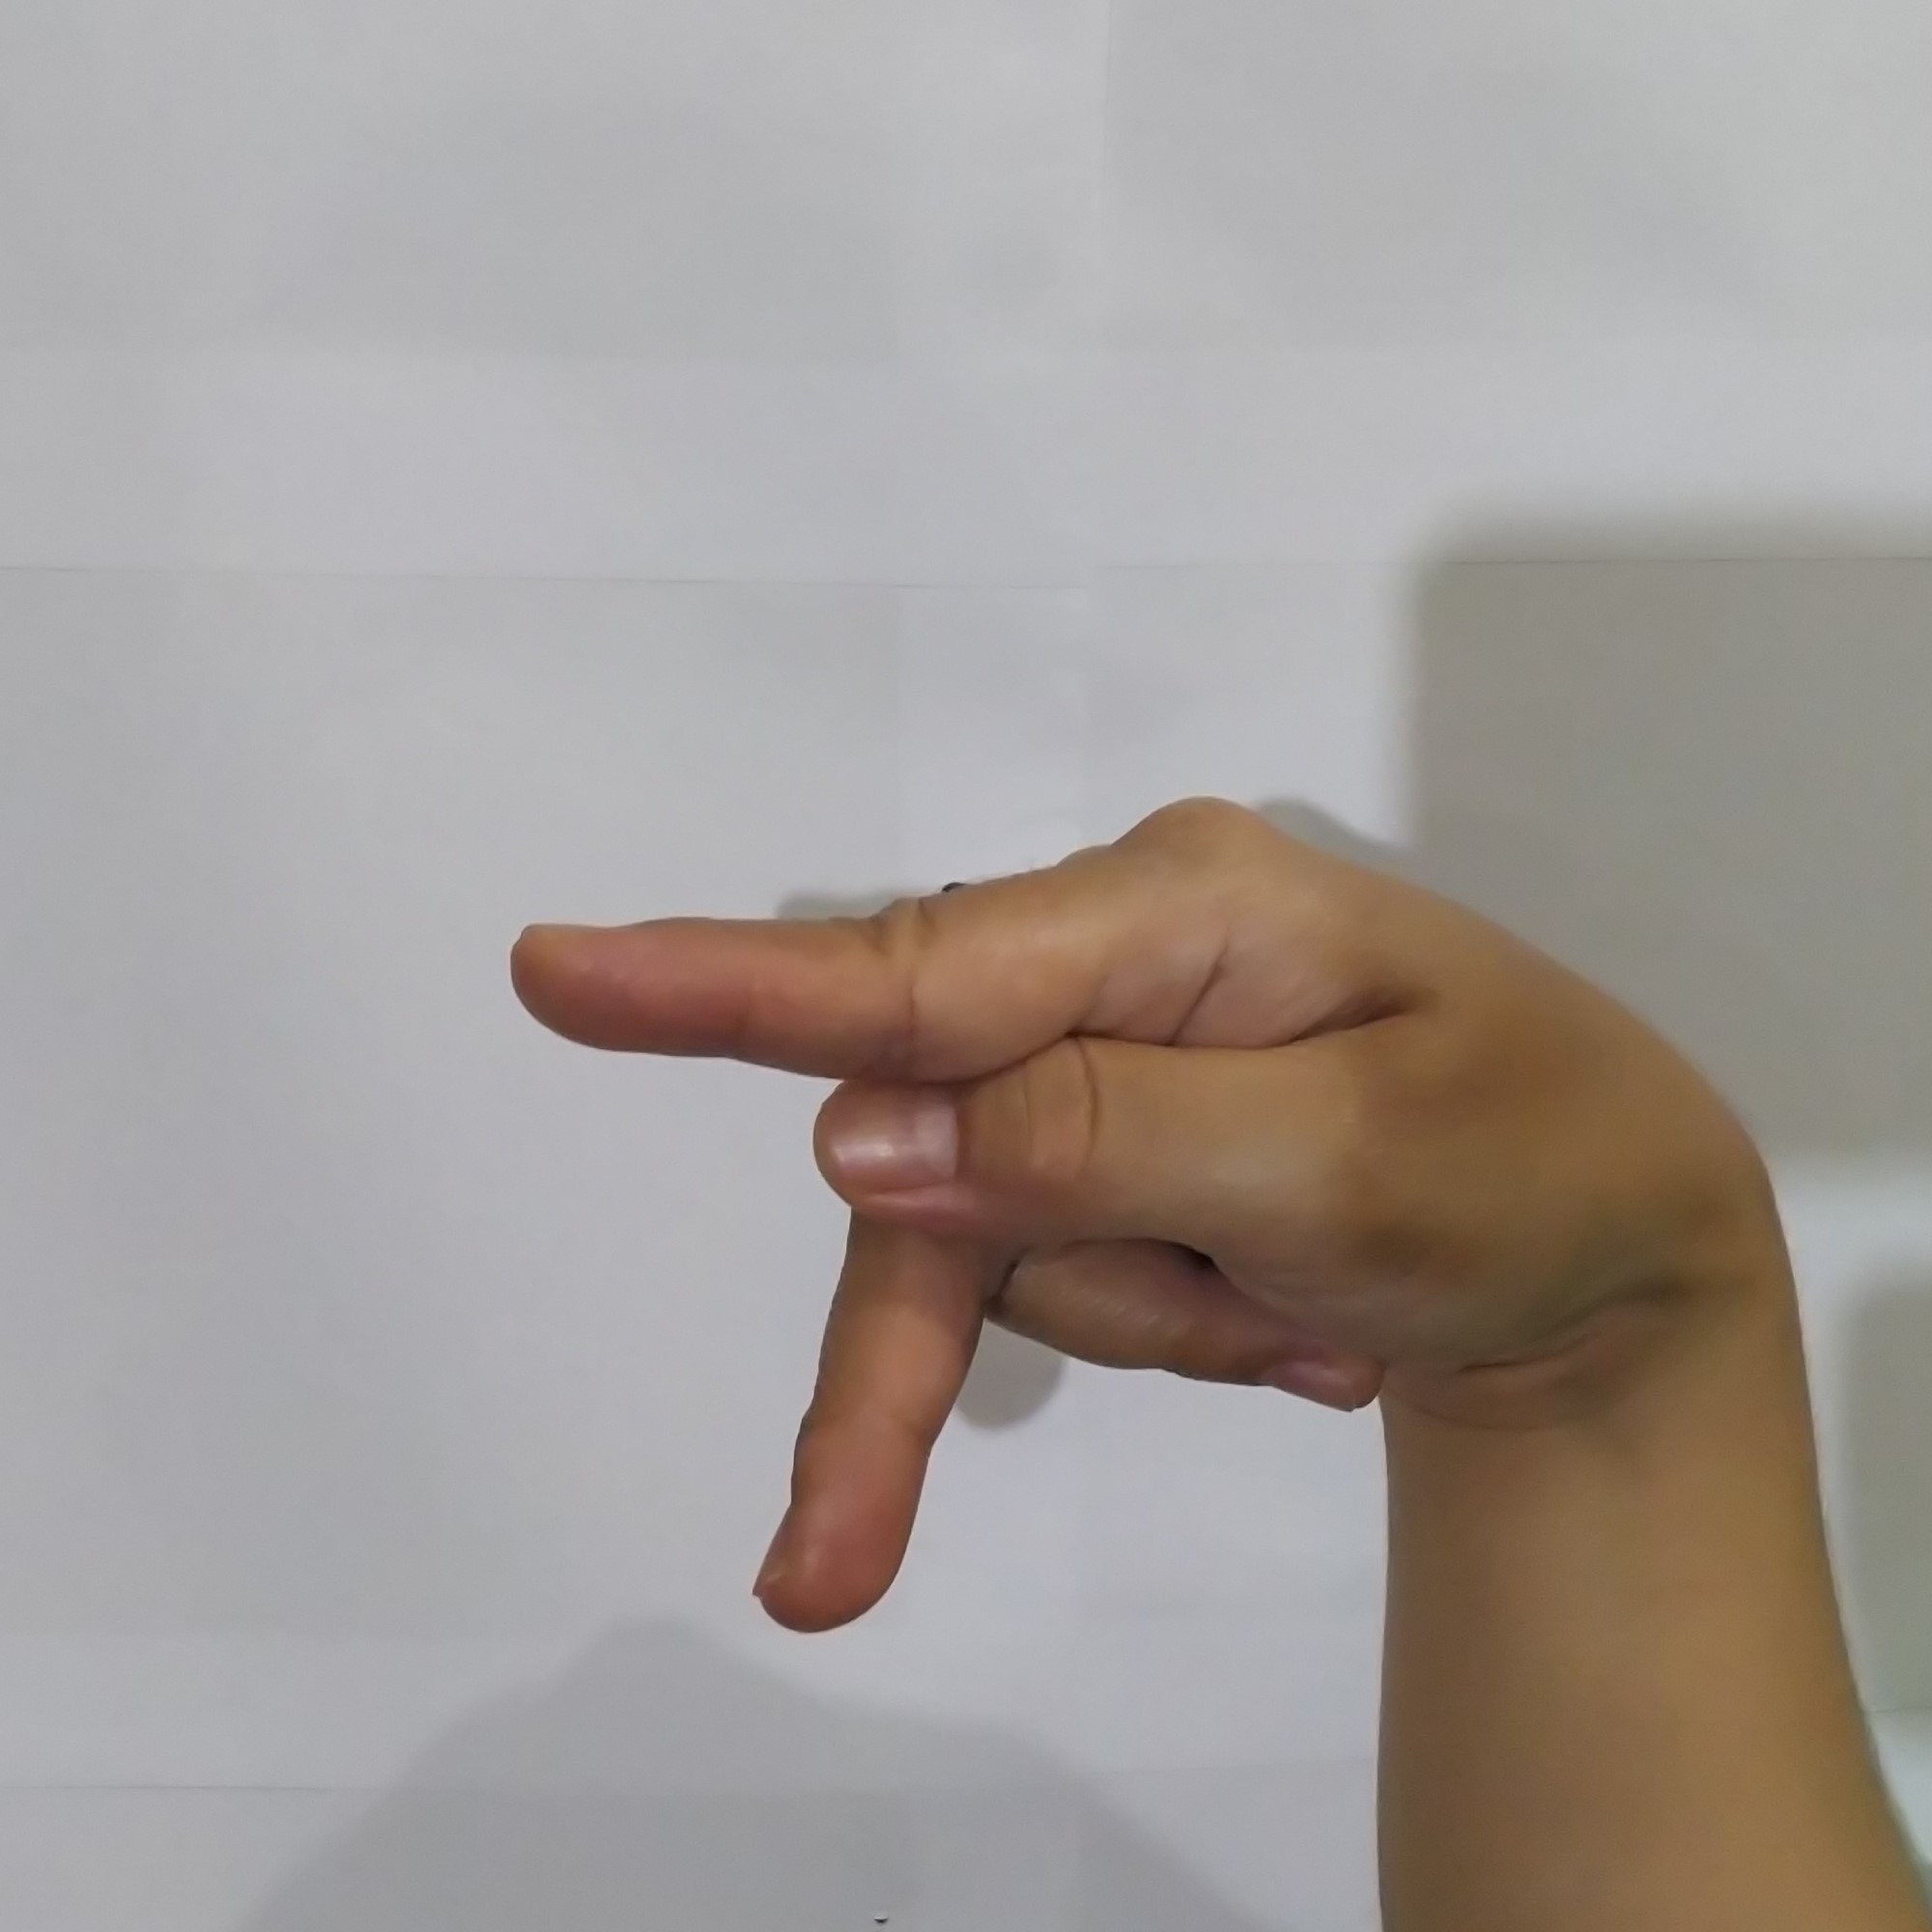P: (465, 764, 1842, 1651)
